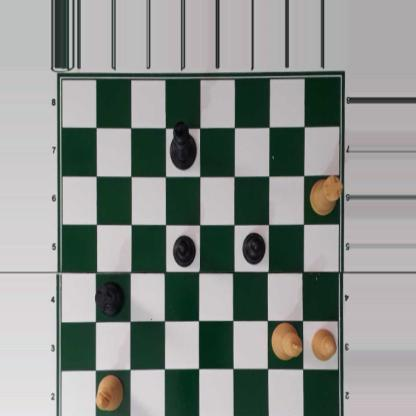black-king: (169, 119, 196, 170)
black-pawn: (241, 229, 266, 264), (170, 233, 196, 266)
black-rook: (93, 279, 124, 316)
white-bishop: (94, 371, 124, 412)
white-king: (270, 323, 302, 361)
white-pawn: (311, 328, 337, 361)
white-rook: (309, 173, 343, 214)
